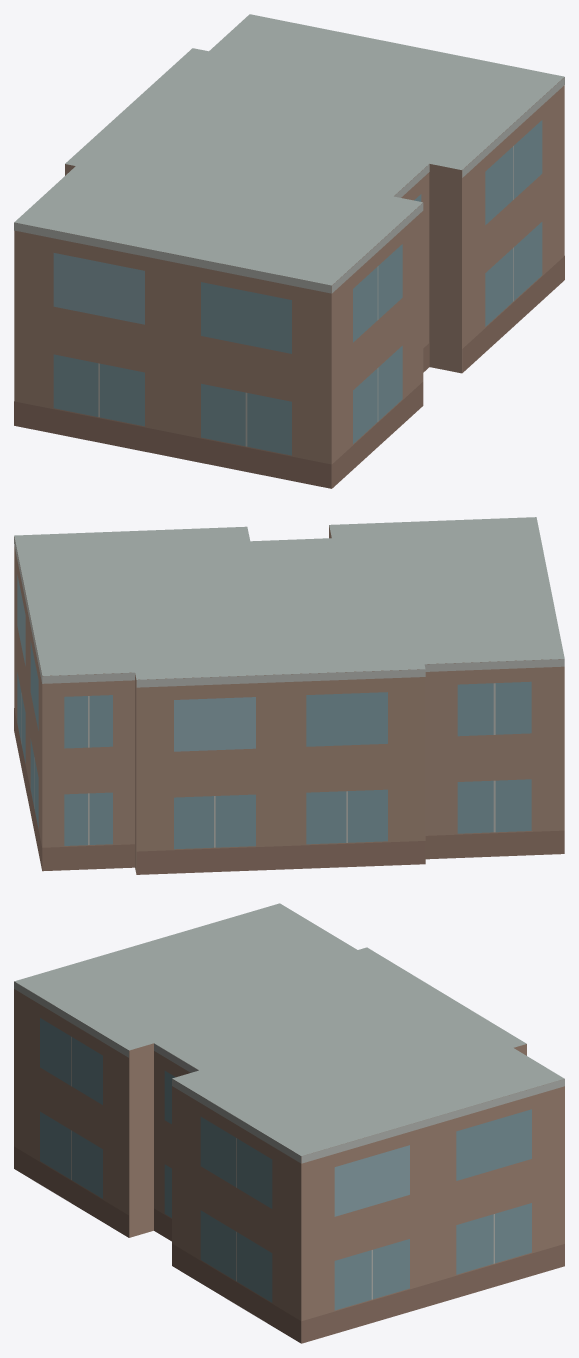
File: survey-upis-32683066.glb
3 views of the same model, one above another, from view 1: azimuth 30°, elevation 25°; view 2: azimuth 150°, elevation 25°; view 3: azimuth 270°, elevation 25° (orthographic). The views are drawn at different scales.
Parts seen in each view (by area): view 1: survey-upis-32683066.tmp; view 2: survey-upis-32683066.tmp; view 3: survey-upis-32683066.tmp.
Part boxes in pixels (bbox=[...]): survey-upis-32683066.tmp: bbox=[14, 14, 564, 488]; survey-upis-32683066.tmp: bbox=[14, 517, 564, 874]; survey-upis-32683066.tmp: bbox=[14, 903, 564, 1343].
Size of the model in its own units: 17.67 by 6.1 by 16.25.
